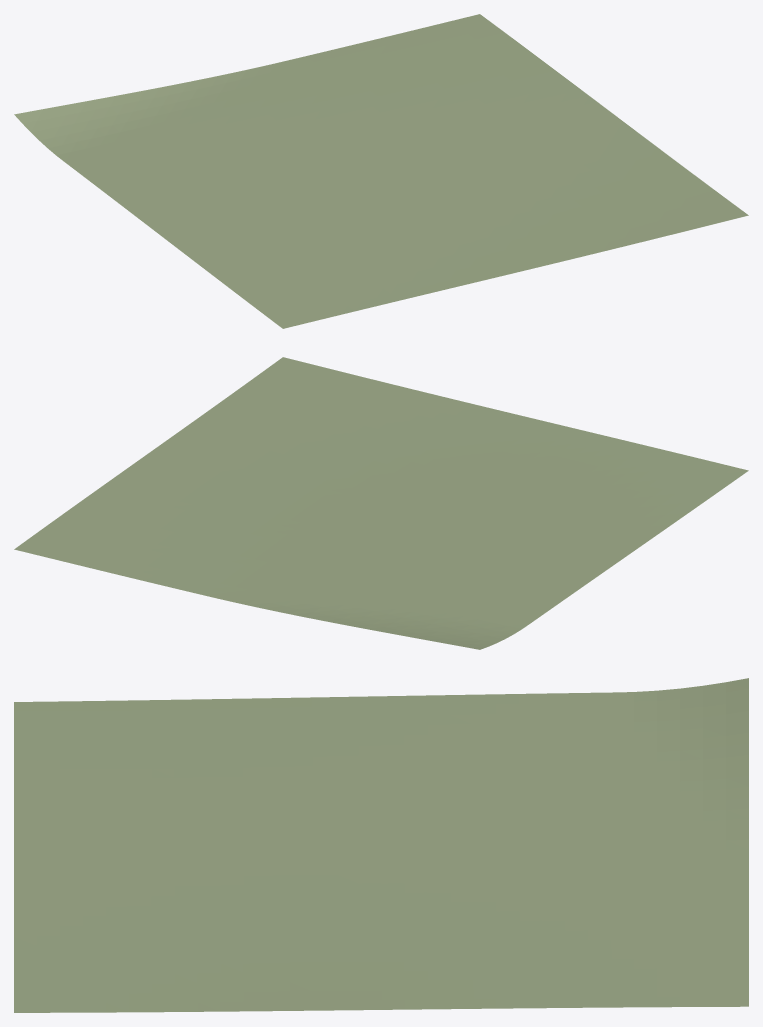
Rendered from desert-27-23.glb.
The picture shows the model from 3 angles, top to bottom: view 1: azimuth 30°, elevation 25°; view 2: azimuth 150°, elevation 25°; view 3: azimuth 270°, elevation 25°; orthographic projection. The views are drawn at different scales.
Visible parts, largest first — view 1: desert-27-23; view 2: desert-27-23; view 3: desert-27-23.
Part boxes in pixels (box(x1,y1,x2,y2)): desert-27-23: box(14, 14, 748, 328); desert-27-23: box(14, 357, 748, 649); desert-27-23: box(14, 678, 748, 1012).
Size of the model in its own units: 512 by 19.3 by 512.
